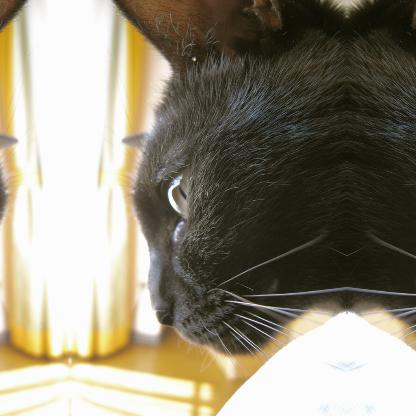Cat: (98, 0, 346, 378), (346, 0, 415, 379)
